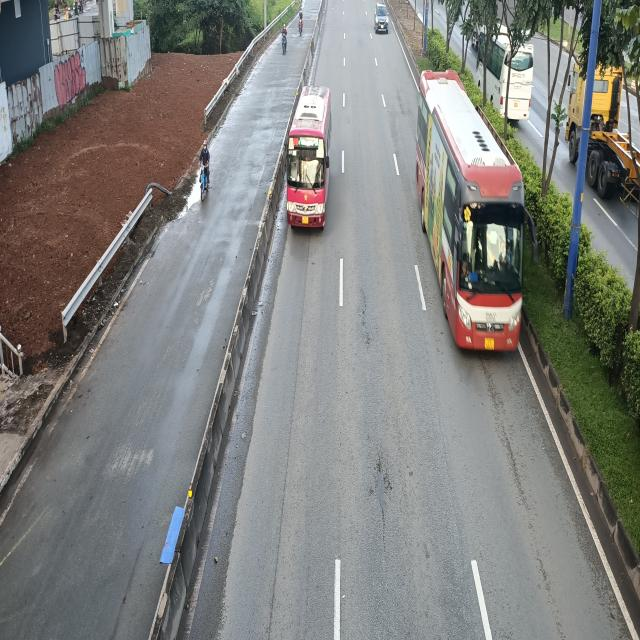car: (376, 2, 390, 32)
coach: (414, 67, 526, 358), (280, 86, 332, 230)
